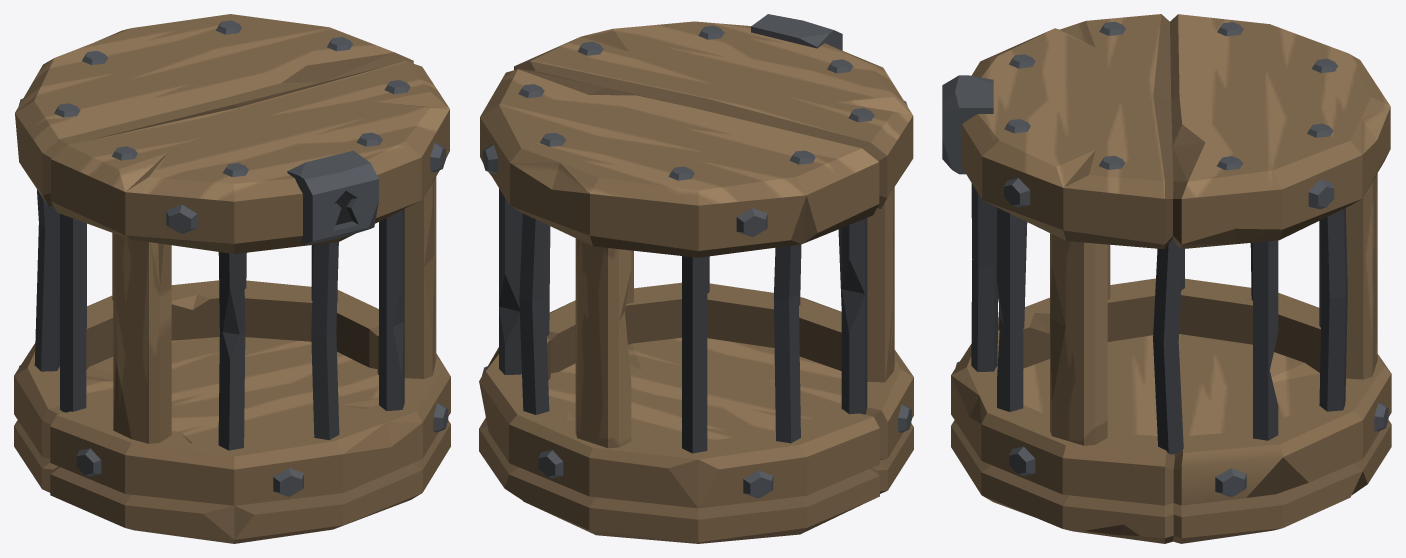
The model's file is SM_Prop_Cage_04.fbx.
3 renders of one model, left to right at view 1: azimuth 30°, elevation 25°; view 2: azimuth 150°, elevation 25°; view 3: azimuth 270°, elevation 25°, orthographic.
Visible parts, largest first — view 1: SM_Prop_Cage_04; view 2: SM_Prop_Cage_04; view 3: SM_Prop_Cage_04.
Part boxes in pixels (x1,y1,x2,y2): SM_Prop_Cage_04: (14,14,450,543); SM_Prop_Cage_04: (479,14,913,543); SM_Prop_Cage_04: (942,14,1391,543).
Size of the model in its own units: 83.94 by 77.73 by 86.39.
